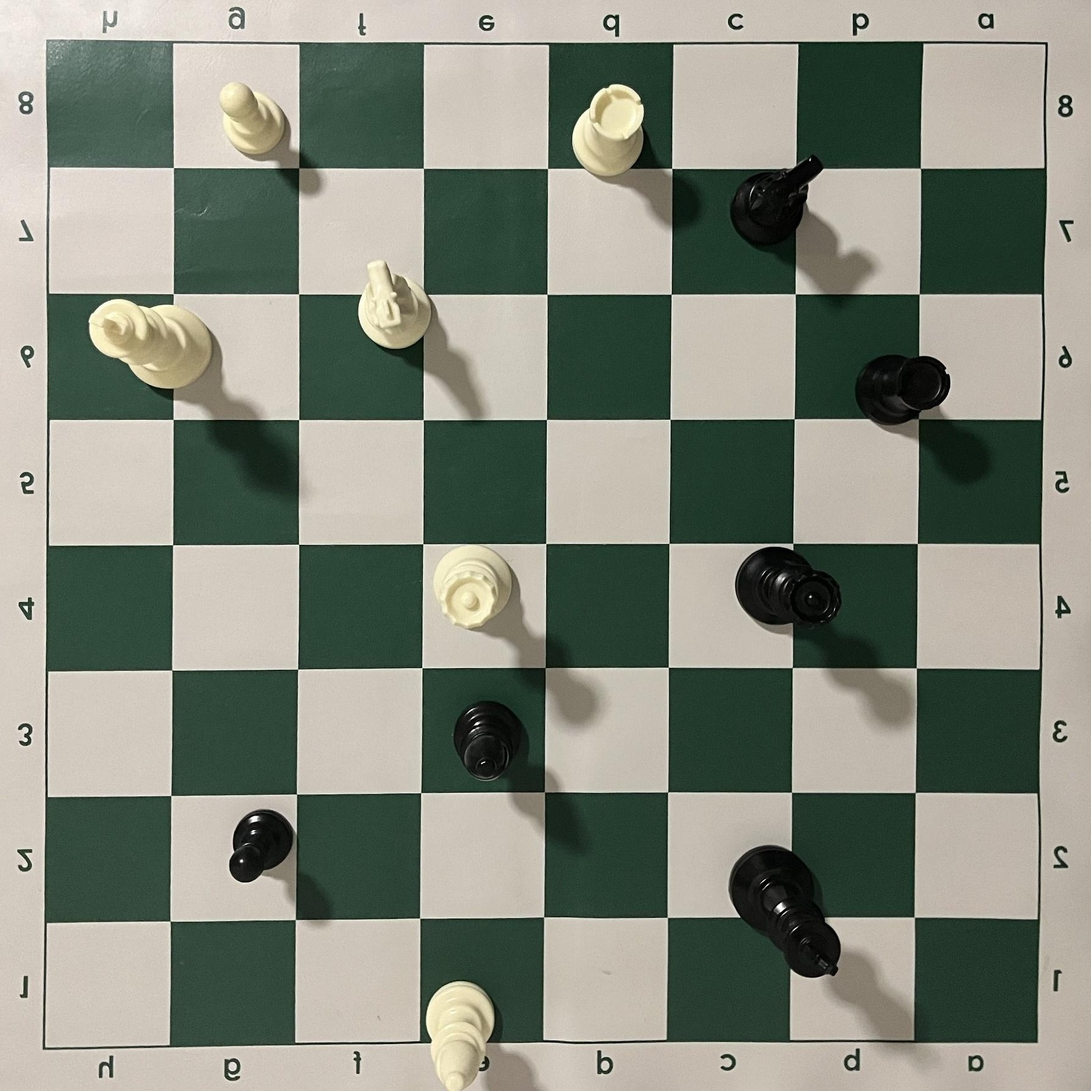black_bishop: (453, 700, 525, 782)
black_king: (728, 845, 842, 979)
black_knight: (728, 154, 824, 246)
black_pawn: (229, 808, 294, 884)
black_queen: (733, 546, 843, 628)
black_rook: (854, 354, 952, 427)
white_bishop: (425, 979, 497, 1091)
white_king: (87, 298, 213, 390)
white_knight: (358, 260, 432, 350)
white_pawn: (218, 80, 287, 157)
white_queen: (433, 544, 514, 631)
white_rook: (571, 84, 646, 177)
